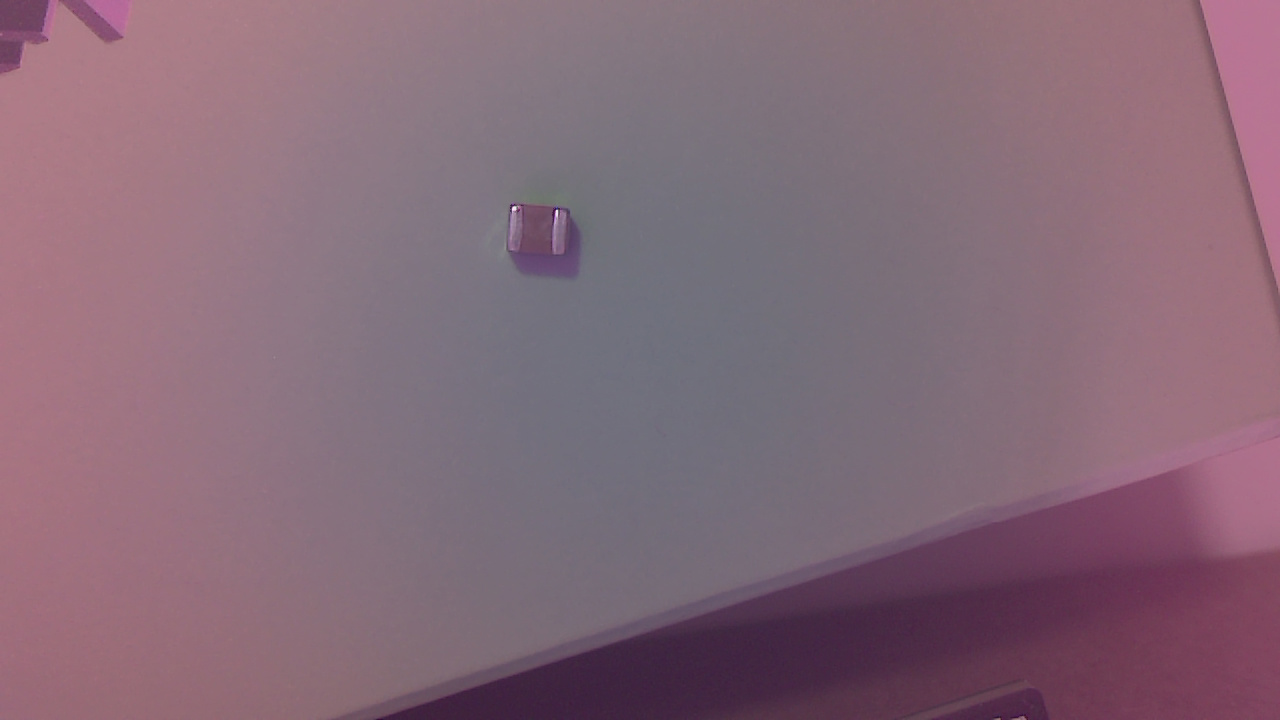Condensator: (508, 204, 579, 268)
